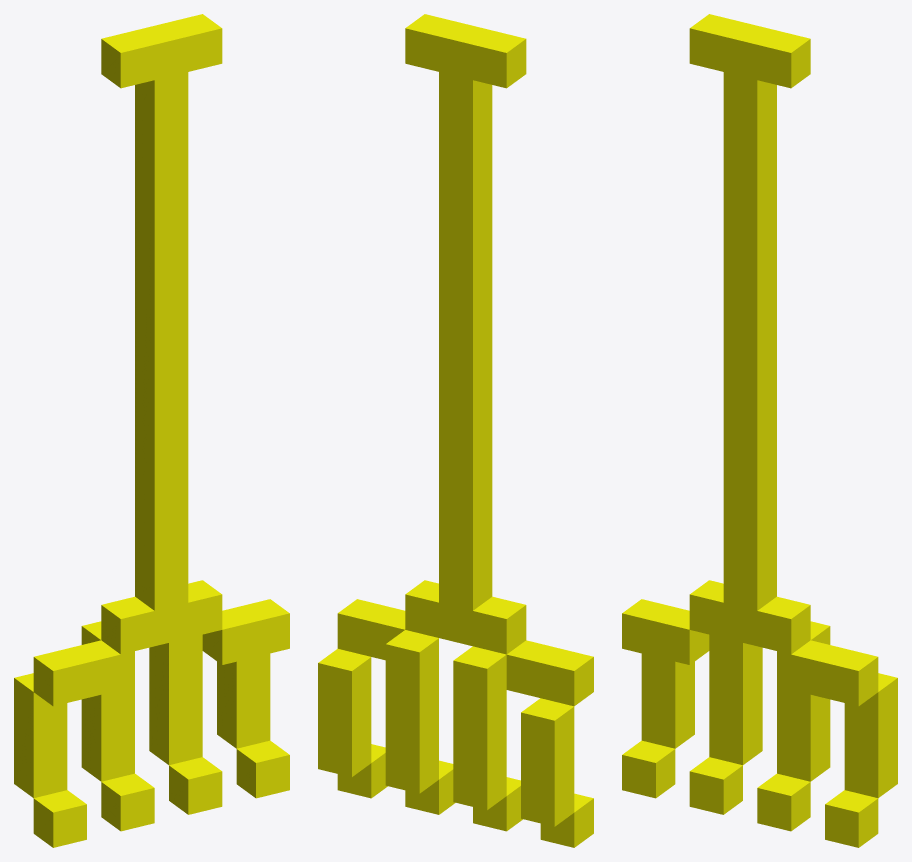
Rendered from voxel-farm-pitch-fork.glb.
3 views of the same model, side by side, from view 1: azimuth 30°, elevation 25°; view 2: azimuth 150°, elevation 25°; view 3: azimuth 330°, elevation 25° (orthographic).
Visible parts, largest first — view 1: VS_Farm_Pitchfork; view 2: VS_Farm_Pitchfork; view 3: VS_Farm_Pitchfork.
Boxes of the visible parts, bbox=[...] form: VS_Farm_Pitchfork: bbox=[14, 14, 289, 847]; VS_Farm_Pitchfork: bbox=[318, 14, 593, 847]; VS_Farm_Pitchfork: bbox=[622, 14, 897, 847].
Bounding box in the file's own units: 0.6999 × 2.2 × 0.2001.
